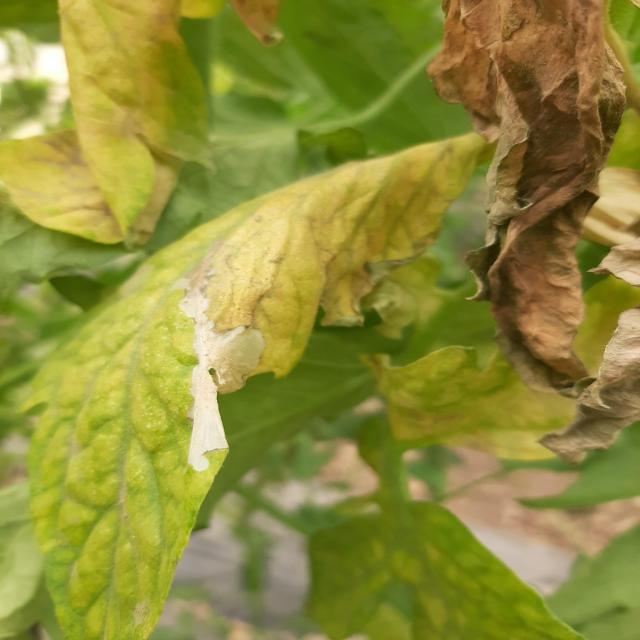Tuta absoluta: (174, 259, 274, 472)
